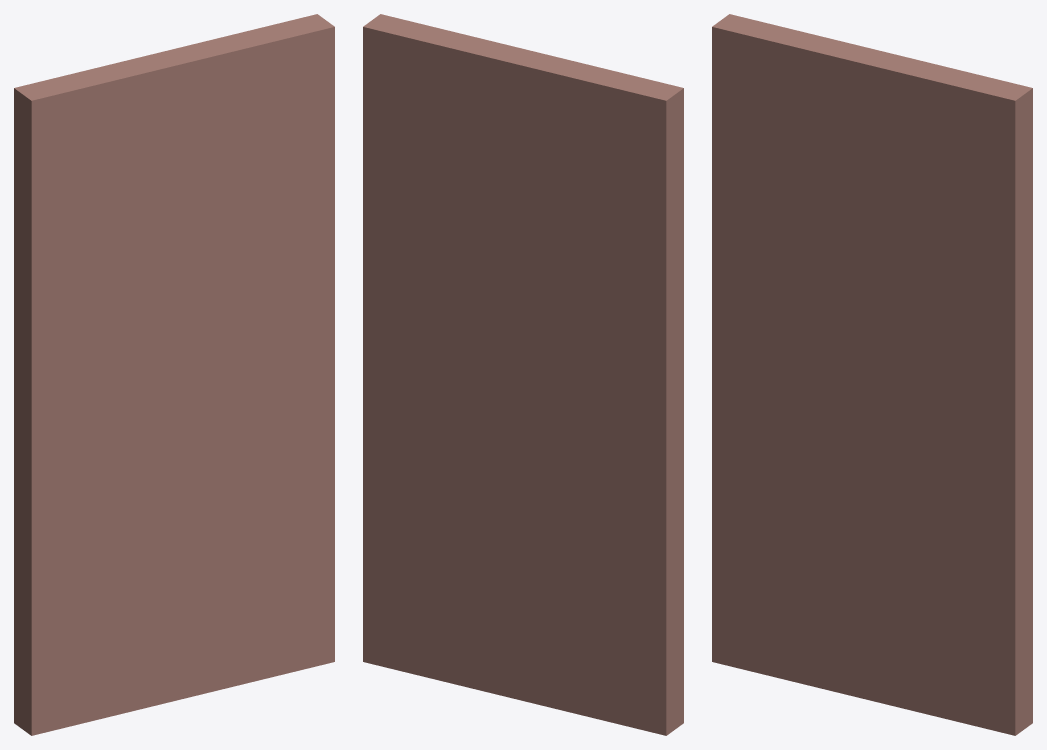
The model's file is scar_brow_notch.glb.
The picture shows the model from 3 angles, left to right: view 1: azimuth 30°, elevation 25°; view 2: azimuth 150°, elevation 25°; view 3: azimuth 330°, elevation 25°; orthographic projection.
Visible parts, largest first — view 1: scar_brow_notch; view 2: scar_brow_notch; view 3: scar_brow_notch.
Part boxes in pixels (box(x1,y1,x2,y2)): scar_brow_notch: box(14, 14, 334, 735); scar_brow_notch: box(363, 14, 683, 735); scar_brow_notch: box(712, 14, 1032, 735).
Size of the model in its own units: 0.125 by 0.25 by 0.0125.
